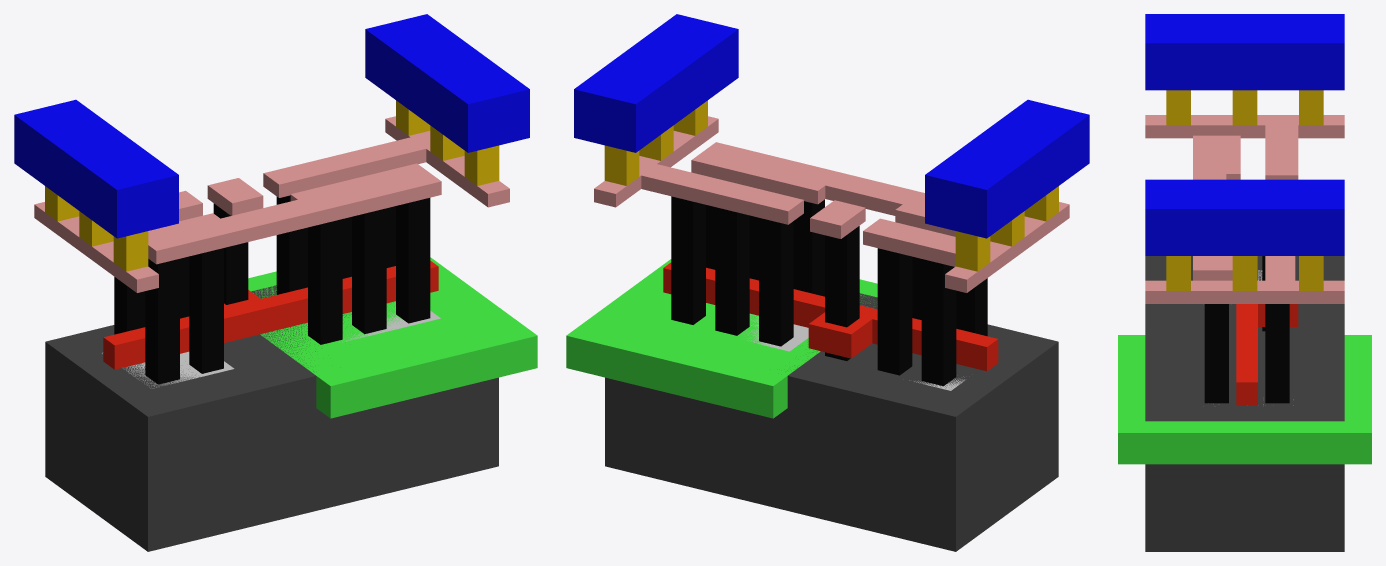
The model's file is sky130_fd_sc_hd__inv_1.obj.
3 renders of one model, left to right at view 1: azimuth 30°, elevation 25°; view 2: azimuth 150°, elevation 25°; view 3: azimuth 270°, elevation 25°, orthographic. The views are drawn at different scales.
Visible parts, largest first — view 1: subs, metal1, licon, li, nwell, poly, mcon, diff; view 2: subs, licon, metal1, li, nwell, poly, mcon, tap; view 3: subs, metal1, nwell, li, mcon, licon, poly.
Part boxes in pixels (<box>): subs: <box>45,285,498,551</box>; metal1: <box>14,14,529,238</box>; licon: <box>114,195,430,384</box>; li: <box>34,116,509,292</box>; nwell: <box>248,257,537,418</box>; poly: <box>103,260,438,369</box>; mcon: <box>45,100,499,271</box>; diff: <box>102,351,234,388</box>; subs: <box>605,293,1058,551</box>; licon: <box>671,196,987,386</box>; metal1: <box>574,14,1089,238</box>; li: <box>594,116,1069,292</box>; nwell: <box>566,259,877,418</box>; poly: <box>663,262,998,371</box>; mcon: <box>604,100,1058,271</box>; tap: <box>744,314,808,351</box>; subs: <box>1145,256,1344,551</box>; metal1: <box>1145,14,1344,255</box>; nwell: <box>1118,335,1371,464</box>; li: <box>1145,115,1344,303</box>; mcon: <box>1166,90,1323,290</box>; licon: <box>1204,256,1289,403</box>; poly: <box>1236,256,1298,405</box>.
Bounding box in the file's own units: 3.2 × 2.74 × 1.76.
